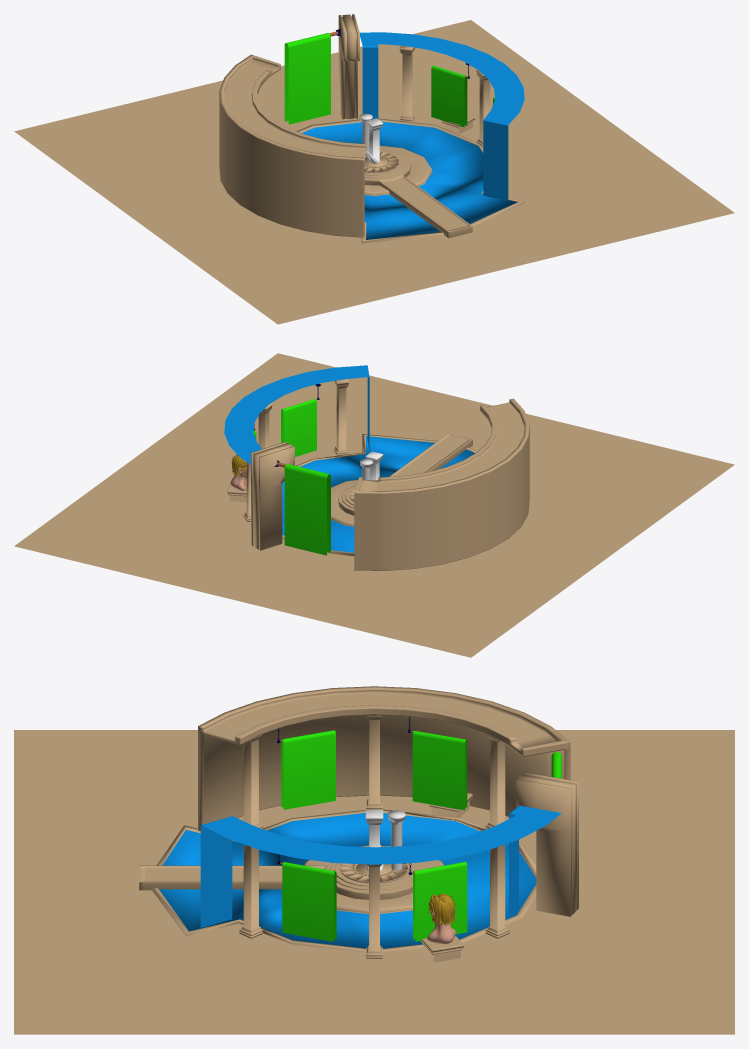
Rendered from Escenario.glb.
3 renders of one model, top to bottom at view 1: azimuth 30°, elevation 25°; view 2: azimuth 150°, elevation 25°; view 3: azimuth 270°, elevation 25°, orthographic. The views are drawn at different scales.
Parts seen in each view (by area): view 1: Plane, RecipienteRio, Lago, Rio, Lona1, Escaleras, PilaresLaterales, Lona5, Pilar1, Pilar5, Centro; view 2: Plane, RecipienteRio, Lago, Lona1, Rio, PilaresLaterales, Escaleras, Lona2, Pilar4; view 3: Plane, RecipienteRio, Lago, Rio, PilaresLaterales, Escaleras, Lona3, Lona2, Lona4, Lona5, Pilar1, Pilar4 (+8 smaller).
Boxes of the visible parts, box(x1,y1,x2,y2) form: Plane: box(14, 20, 734, 324); RecipienteRio: box(219, 54, 366, 237); Lago: box(297, 118, 524, 243); Rio: box(360, 32, 524, 200); Lona1: box(284, 33, 330, 124); Escaleras: box(364, 150, 472, 238); PilaresLaterales: box(338, 14, 359, 119); Lona5: box(431, 65, 467, 127); Pilar1: box(399, 45, 414, 122); Pilar5: box(476, 70, 490, 147); Centro: box(364, 151, 399, 173); Plane: box(14, 353, 734, 657); RecipienteRio: box(354, 398, 529, 570); Lago: box(282, 434, 477, 555); Lona1: box(284, 464, 330, 555); Rio: box(224, 365, 369, 464); PilaresLaterales: box(251, 441, 294, 550); Escaleras: box(338, 433, 472, 515); Lona2: box(281, 398, 316, 456); Pilar4: box(334, 379, 349, 455); Plane: box(14, 730, 734, 1034); RecipienteRio: box(198, 686, 570, 830); Lago: box(152, 809, 536, 952); Rio: box(200, 805, 561, 927); PilaresLaterales: box(516, 772, 578, 916); Escaleras: box(139, 862, 422, 899); Lona3: box(412, 730, 467, 810); Lona2: box(282, 862, 336, 941); Lona4: box(281, 730, 335, 809); Lona5: box(413, 861, 467, 941); Pilar1: box(485, 844, 509, 938); Pilar4: box(239, 844, 263, 938).
Size of the model in its own units: 166 by 39.59 by 166.
